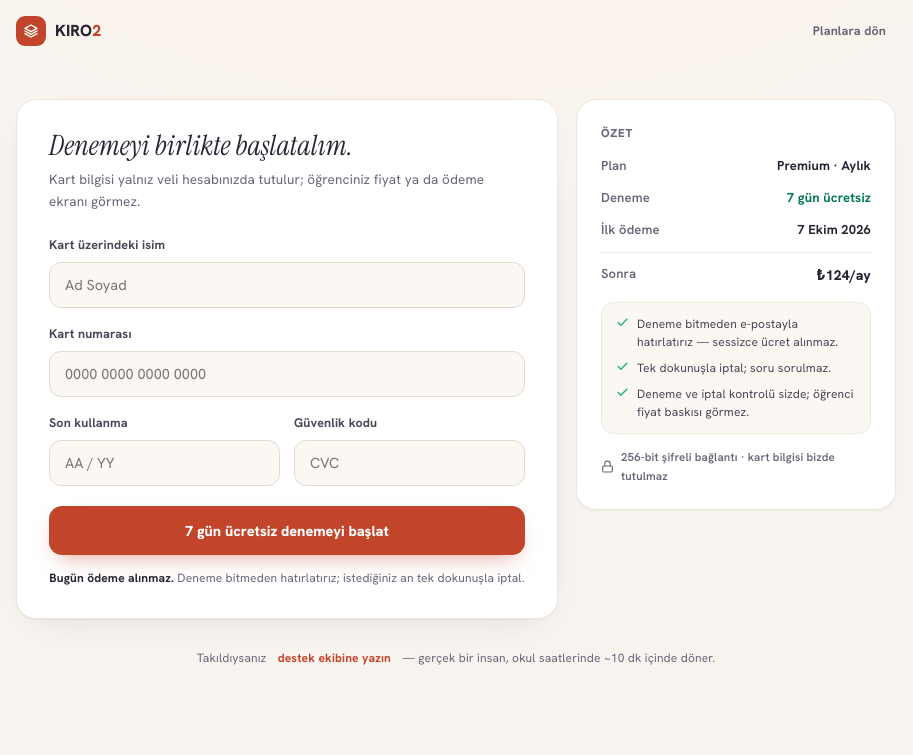
Test case: OdemePage › axe · banka-red sonrası form: role="alert" decline + aria-invalid ihlal yok
Expected: the text "₺124/ay" is shown, [816, 264, 871, 286]
Type "Ayşe Ateş" into the field labelled "Kart üzerindeki isim" at (287, 285), box [49, 262, 525, 308]
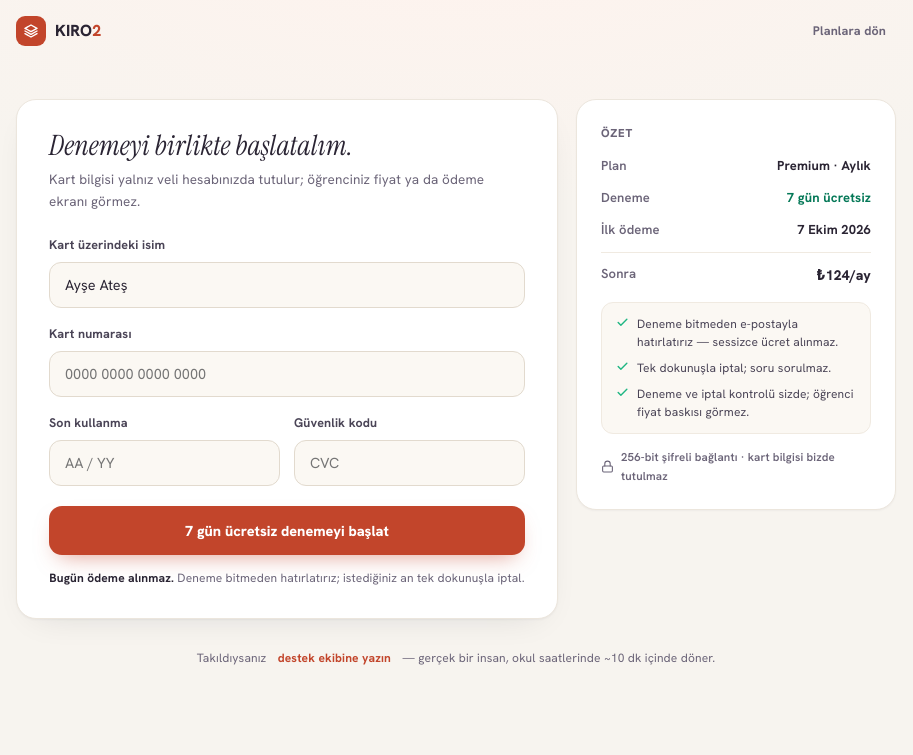
Type "4242424242424242" into the field labelled "Kart numarası" at (287, 374), box [49, 351, 525, 397]
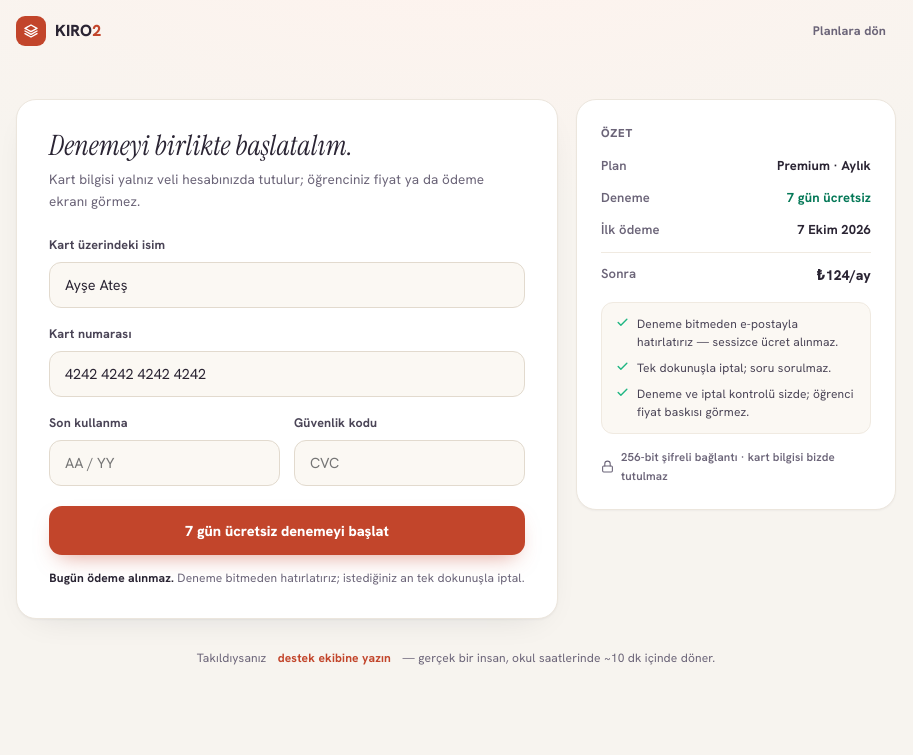
Type "1228" into the field labelled "Son kullanma" at (164, 463), box [49, 440, 280, 486]
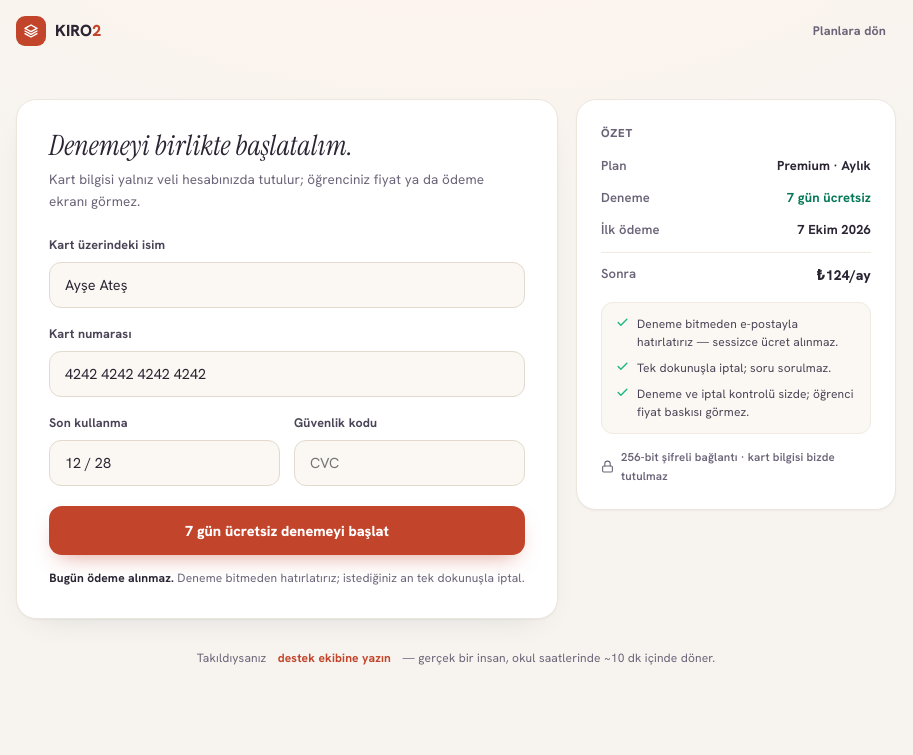
Type "123" into the field labelled "Güvenlik kodu" at (410, 463), box [294, 440, 525, 486]
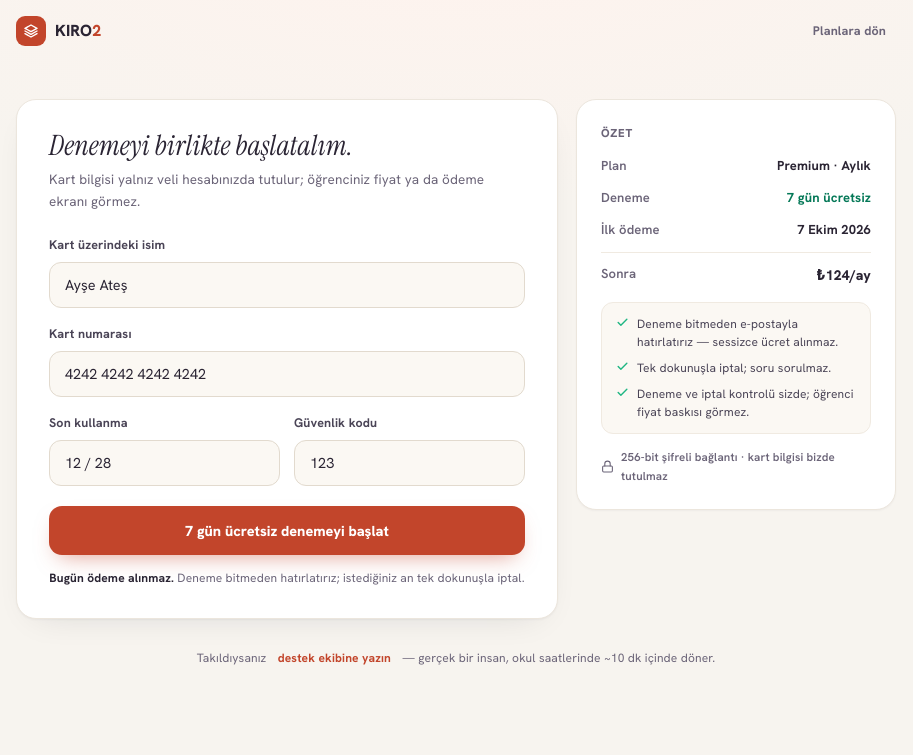
Click the button "7 gün ücretsiz denemeyi başlat" at (287, 530), box [49, 506, 525, 555]
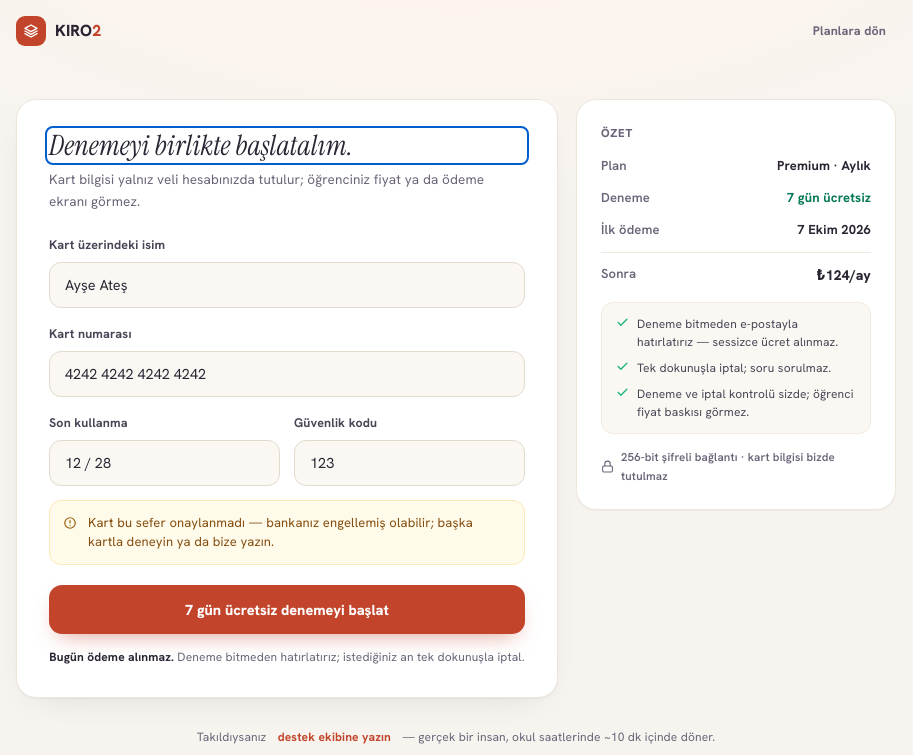
Expected: the text "Kart bu sefer onaylanmadı" is shown, [88, 514, 473, 550]
